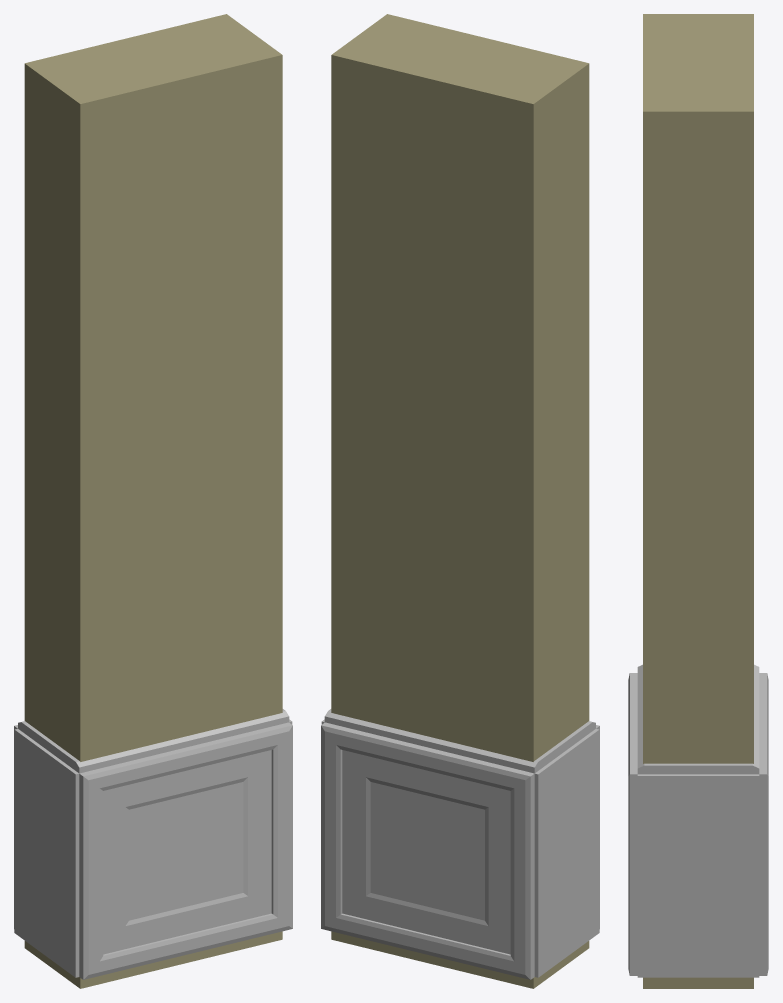
Rendered from Pillar.fbx.
The picture shows the model from 3 angles, left to right: view 1: azimuth 30°, elevation 25°; view 2: azimuth 150°, elevation 25°; view 3: azimuth 270°, elevation 25°; orthographic projection.
Parts seen in each view (by area): view 1: Pillar; view 2: Pillar; view 3: Pillar.
Part boxes in pixels (x1=…): Pillar: x1=14, y1=14, x2=292, y2=988; Pillar: x1=321, y1=14, x2=599, y2=988; Pillar: x1=628, y1=14, x2=768, y2=988.
Bounding box in the file's own units: 155 × 605 × 87.54.
